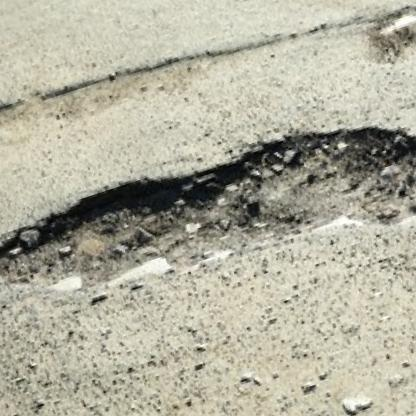pothole: (0, 70, 416, 369), (361, 16, 416, 73)
